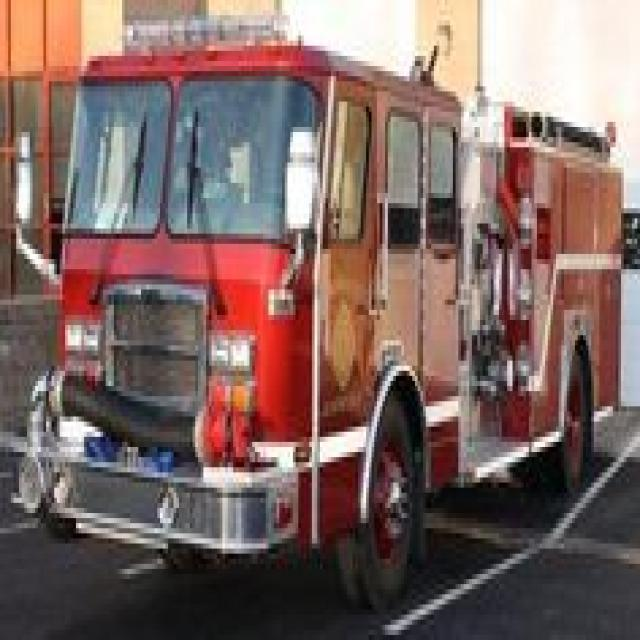emergency: (25, 40, 622, 616)
